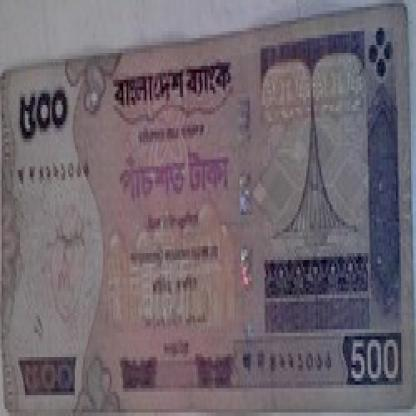500 taka: (115, 149, 244, 208), (5, 94, 82, 138)
currency: (2, 18, 414, 413)
